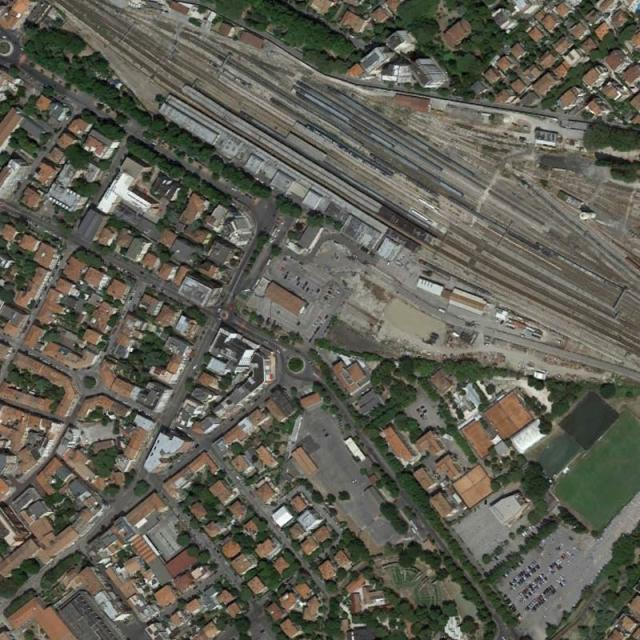vehicle: (437, 306, 446, 314), (452, 330, 460, 339)
